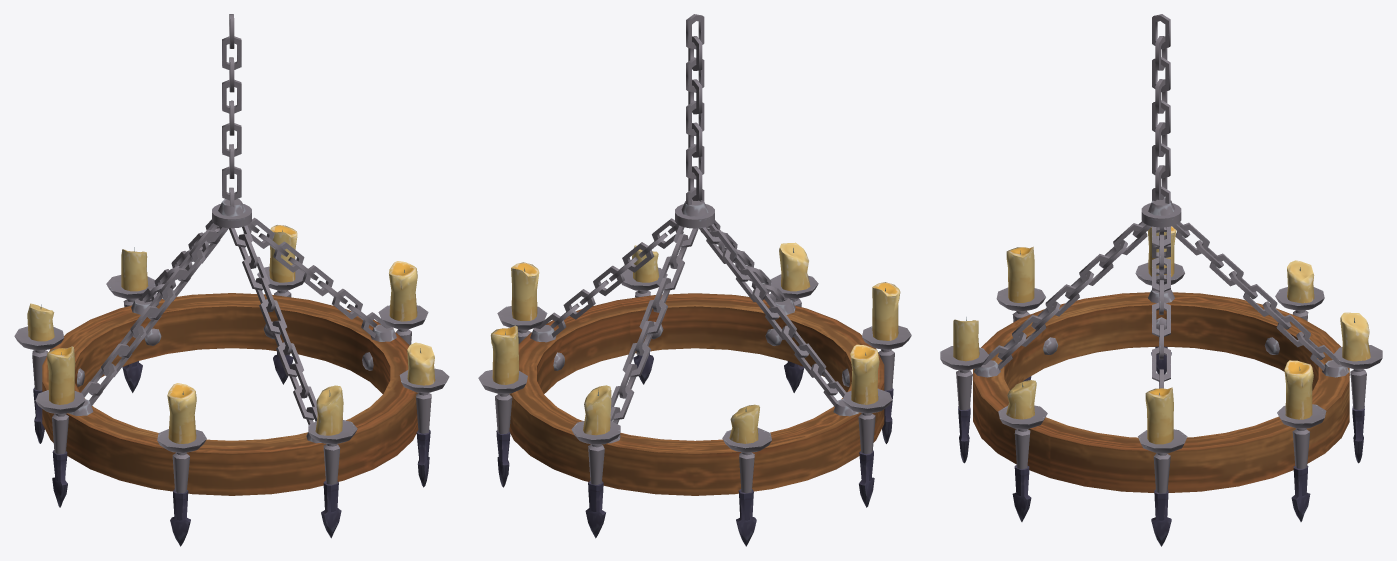
Rendered from chandelier.glb.
The picture shows the model from 3 angles, left to right: view 1: azimuth 30°, elevation 25°; view 2: azimuth 150°, elevation 25°; view 3: azimuth 270°, elevation 25°; orthographic projection.
Visible parts, largest first — view 1: Chandelier; view 2: Chandelier; view 3: Chandelier.
Boxes of the visible parts, box(x1,y1,x2,y2) form: Chandelier: box(14, 14, 449, 546); Chandelier: box(478, 14, 911, 546); Chandelier: box(940, 14, 1382, 546).
Bounding box in the file's own units: 1.3 × 1.46 × 1.3.
Materials: 3 (3 with a texture image).
